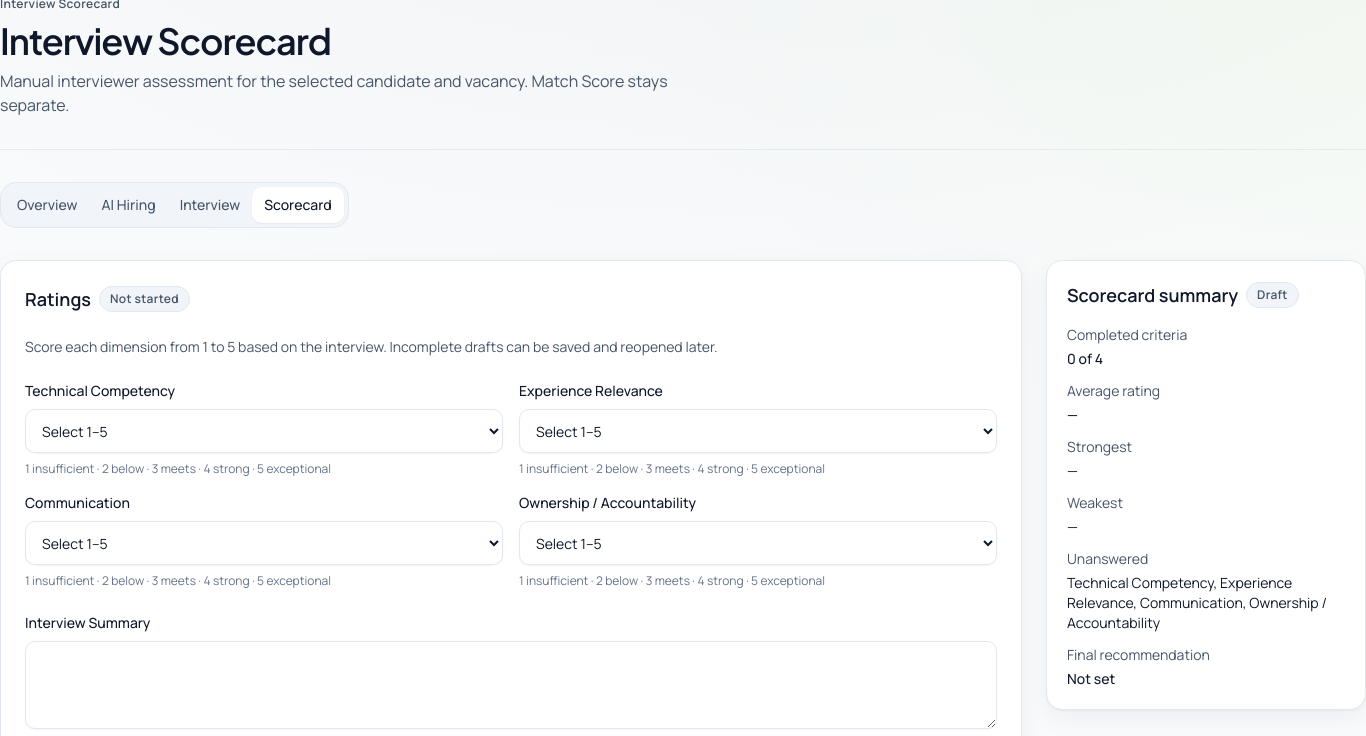
Scenario: EmployerInterviewScorecardWorkspace › saves an incomplete draft via Save draft with the draft status payload
Select "3" in the dropdown labelled "Technical Competency". click: [264, 431]
box: [25,409,503,453]
(page scrolled)
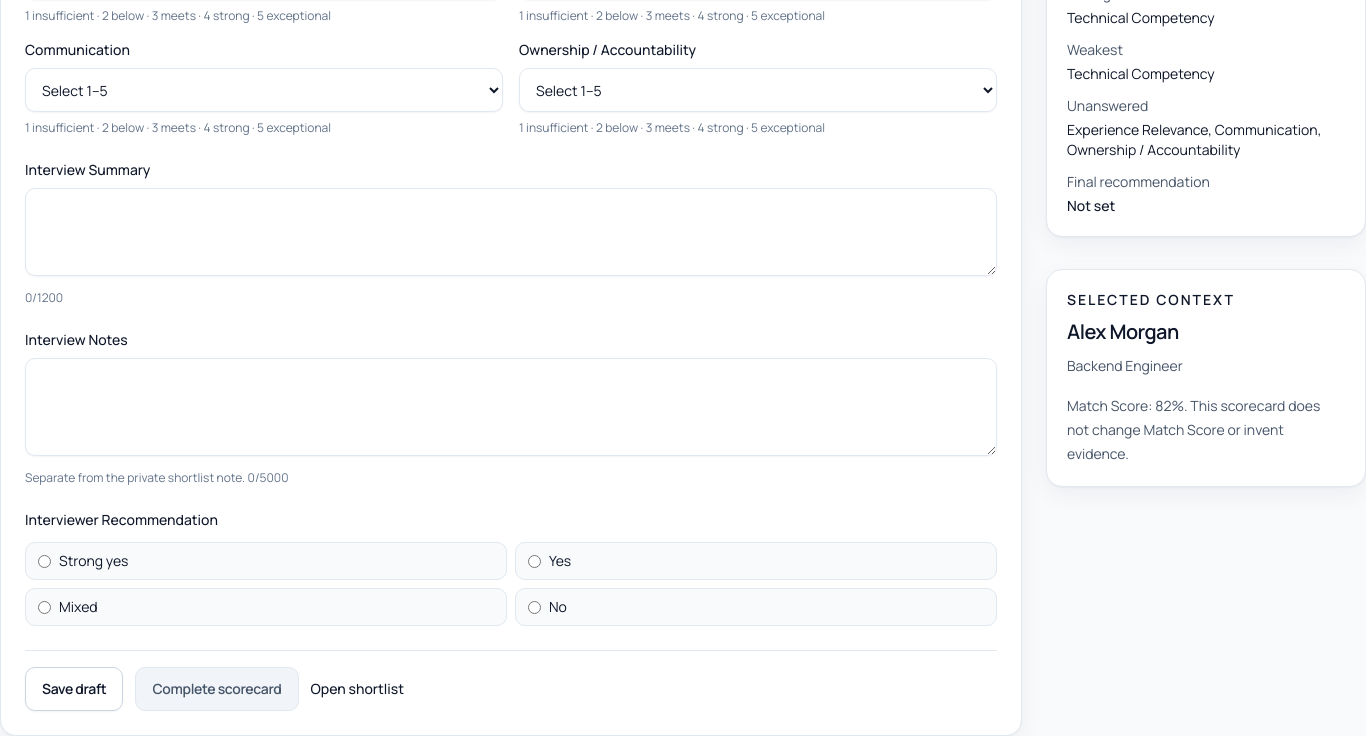
expect the button "Complete scorecard" is disabled: met, box [135,667,298,711]
Click the button "Save draft". click: [74, 689]
box: [25,667,123,711]
(page scrolled)
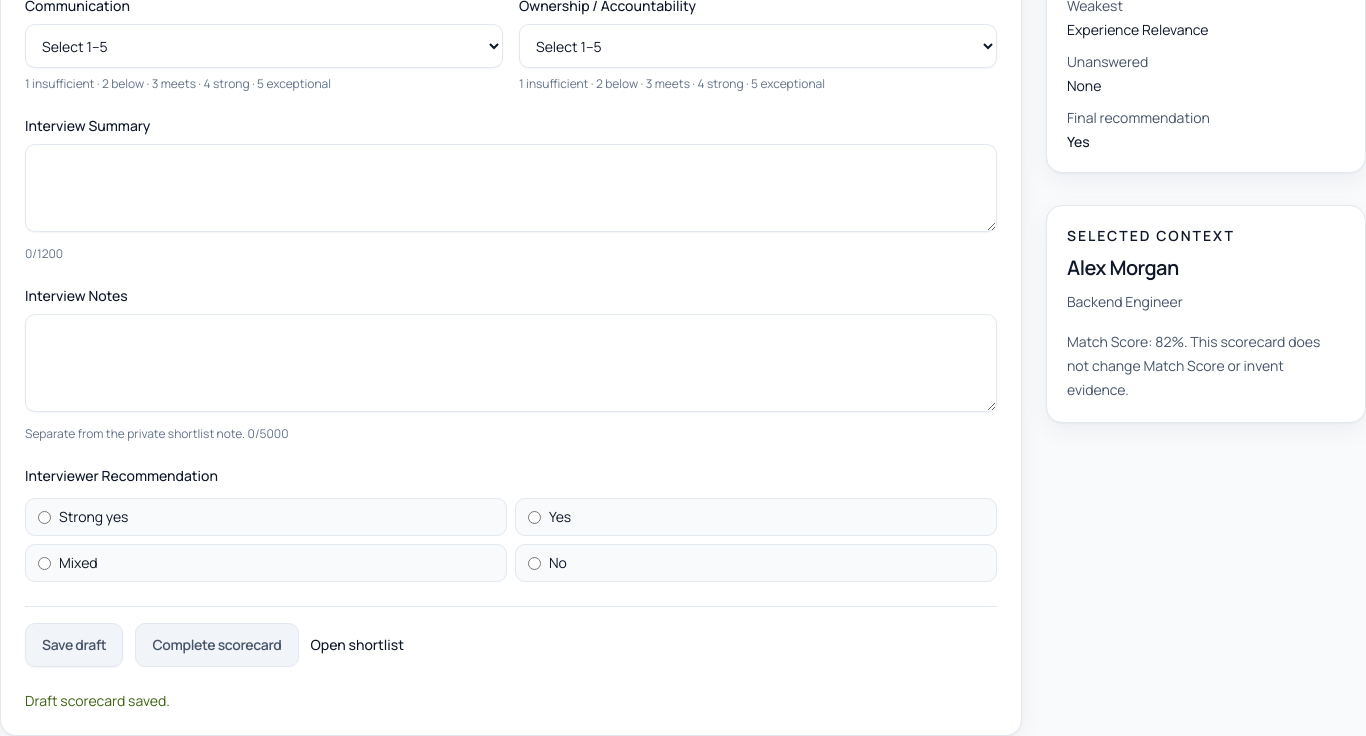
expect the text "Draft scorecard saved." is shown: met, box [25,691,170,710]
